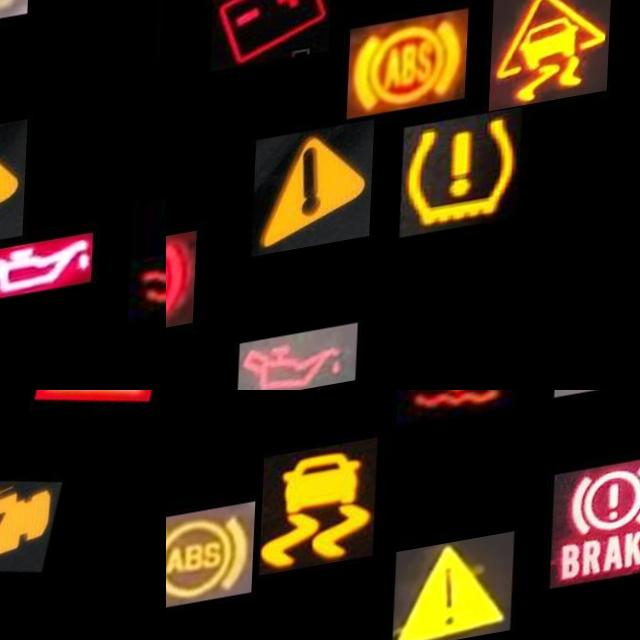Central Warning lamp: (256, 132, 378, 265), (396, 547, 517, 640), (0, 131, 31, 265)
Engine cooling system: (398, 390, 520, 439), (134, 204, 166, 339)
